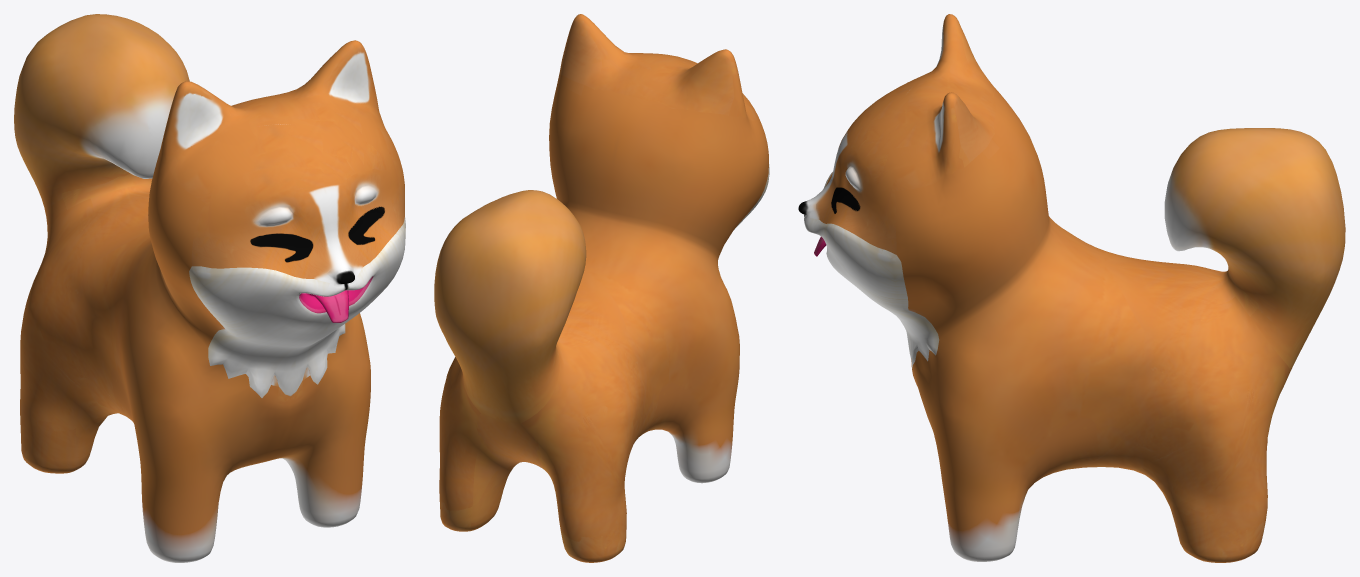
The model's file is Perro.fbx.
3 renders of one model, left to right at view 1: azimuth 30°, elevation 25°; view 2: azimuth 150°, elevation 25°; view 3: azimuth 270°, elevation 25°, orthographic. The views are drawn at different scales.
Visible parts, largest first — view 1: Shiba inu; view 2: Shiba inu; view 3: Shiba inu.
Boxes of the visible parts, <box> form: Shiba inu: <box>14,14,405,562</box>; Shiba inu: <box>434,14,769,562</box>; Shiba inu: <box>798,14,1345,562</box>.
Size of the model in its own units: 12.79 by 25.21 by 26.84.
Materials: 1 (1 with a texture image).
